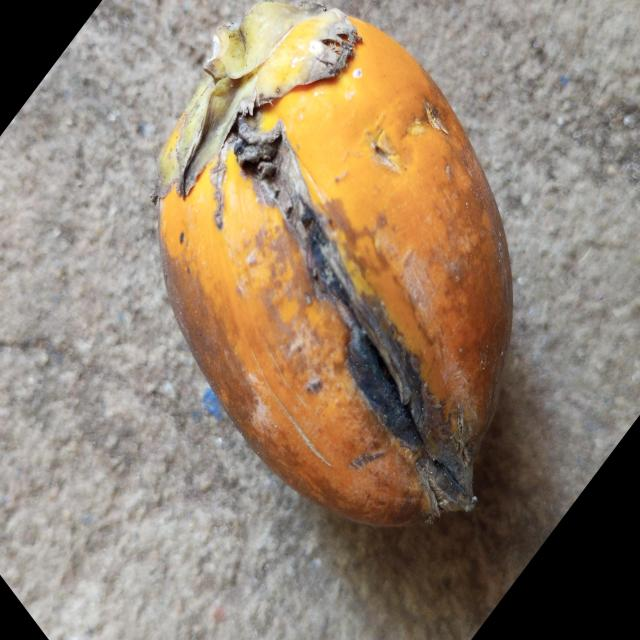damaged: (152, 2, 512, 525)
